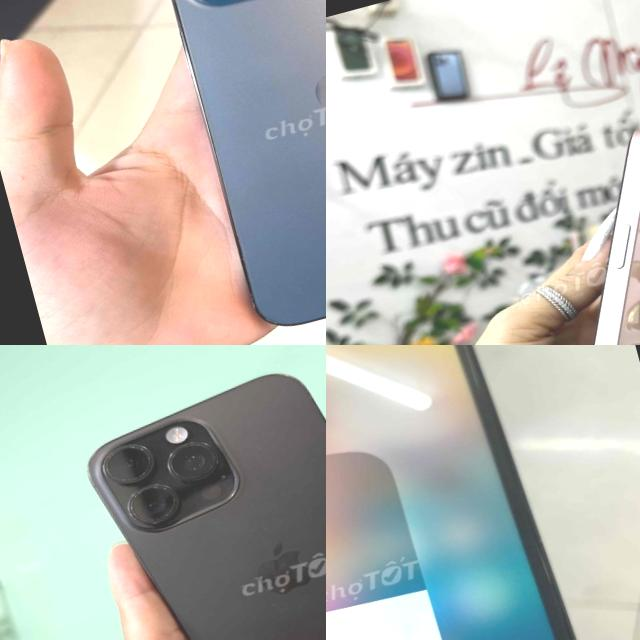gen_12_13: (129, 0, 326, 345), (486, 118, 640, 345)
gen_16: (88, 375, 326, 640)
gen_x_xs: (326, 345, 575, 640)
